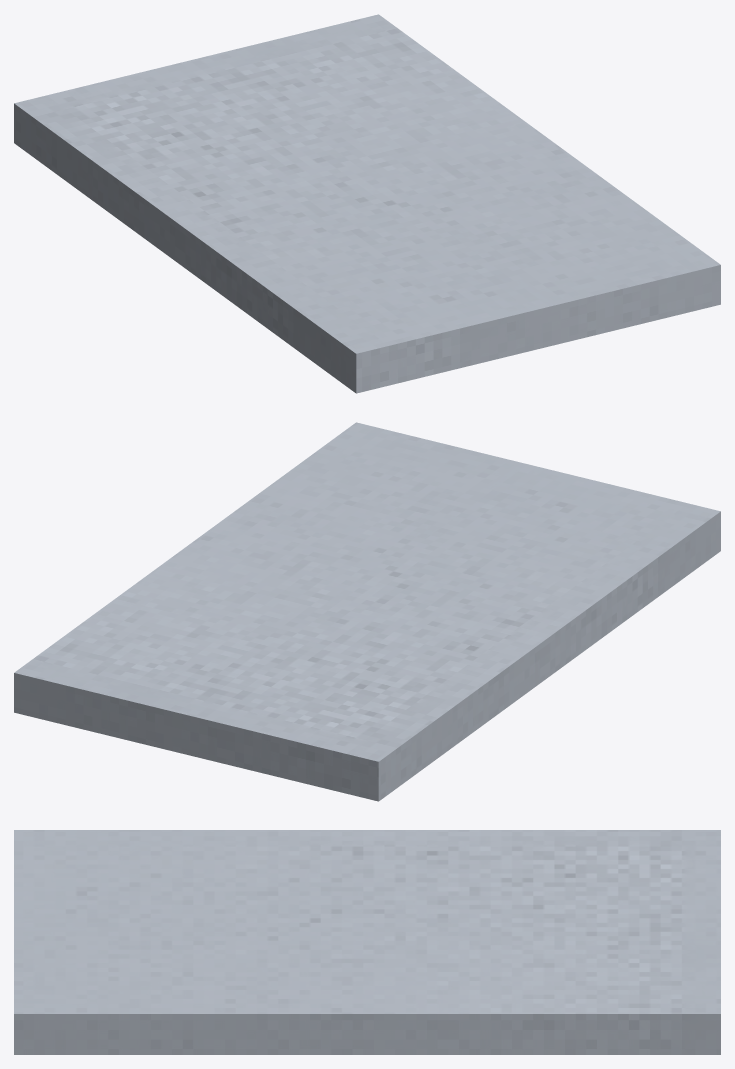
File: CeilingLight.fbx
3 renders of one model, top to bottom at view 1: azimuth 30°, elevation 25°; view 2: azimuth 150°, elevation 25°; view 3: azimuth 270°, elevation 25°, orthographic. The views are drawn at different scales.
Parts seen in each view (by area): view 1: Light; view 2: Light; view 3: Light.
Part boxes in pixels (x1,y1,x2,y2): Light: (14, 14, 720, 393); Light: (14, 422, 720, 801); Light: (14, 830, 720, 1054).
Size of the model in its own units: 480 by 58 by 780.
